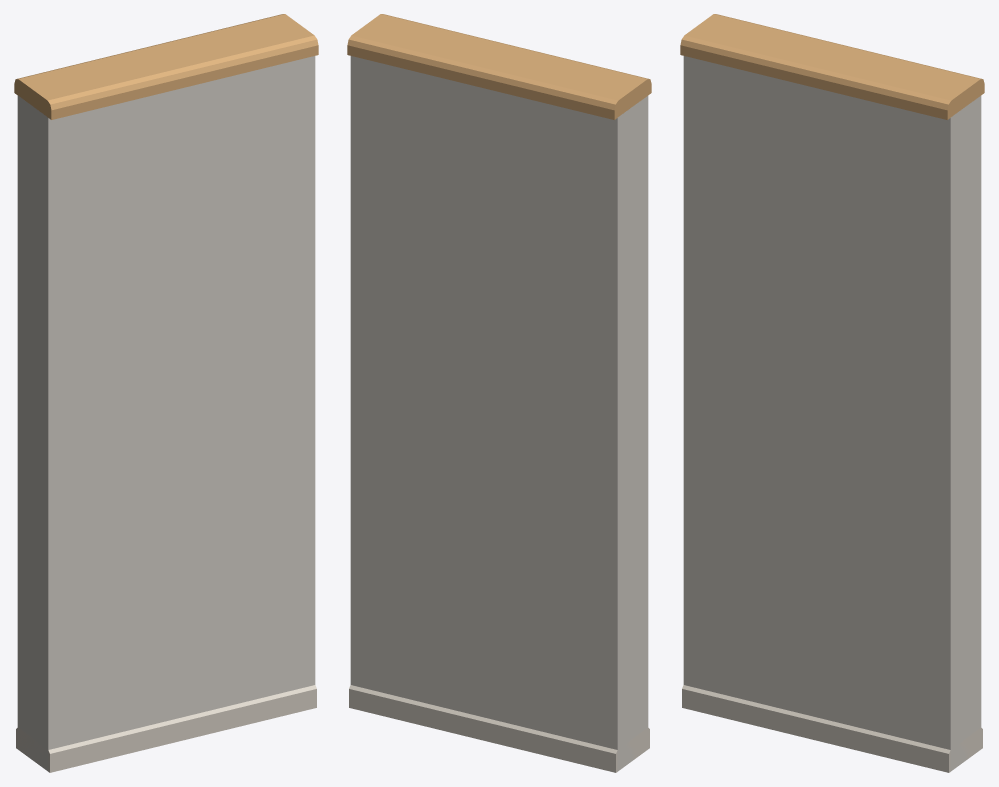
The model's file is wand_voll.glb.
3 views of the same model, side by side, from view 1: azimuth 30°, elevation 25°; view 2: azimuth 150°, elevation 25°; view 3: azimuth 330°, elevation 25° (orthographic).
Visible parts, largest first — view 1: wand_voll; view 2: wand_voll; view 3: wand_voll.
Part boxes in pixels (box(x1,y1,x2,y2)): wand_voll: box(14, 14, 318, 772); wand_voll: box(347, 14, 651, 772); wand_voll: box(680, 14, 984, 772).
Bounding box in the file's own units: 1 × 2.4 × 0.24.
